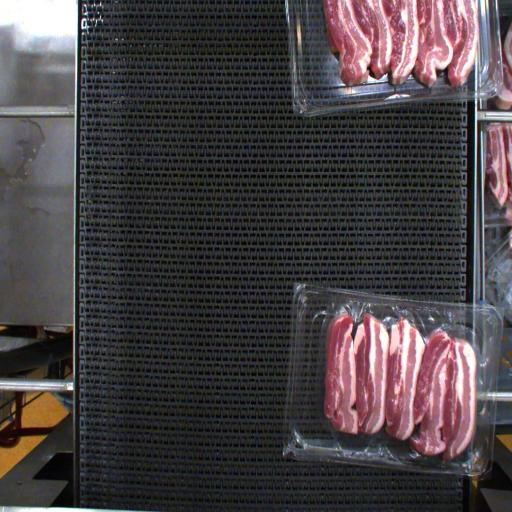unsealed: (318, 292, 492, 481)
